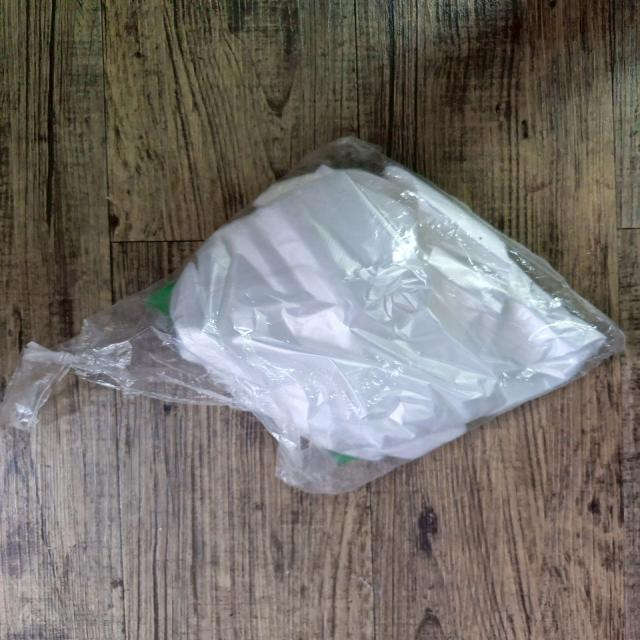plastic bag: (0, 133, 640, 525)
